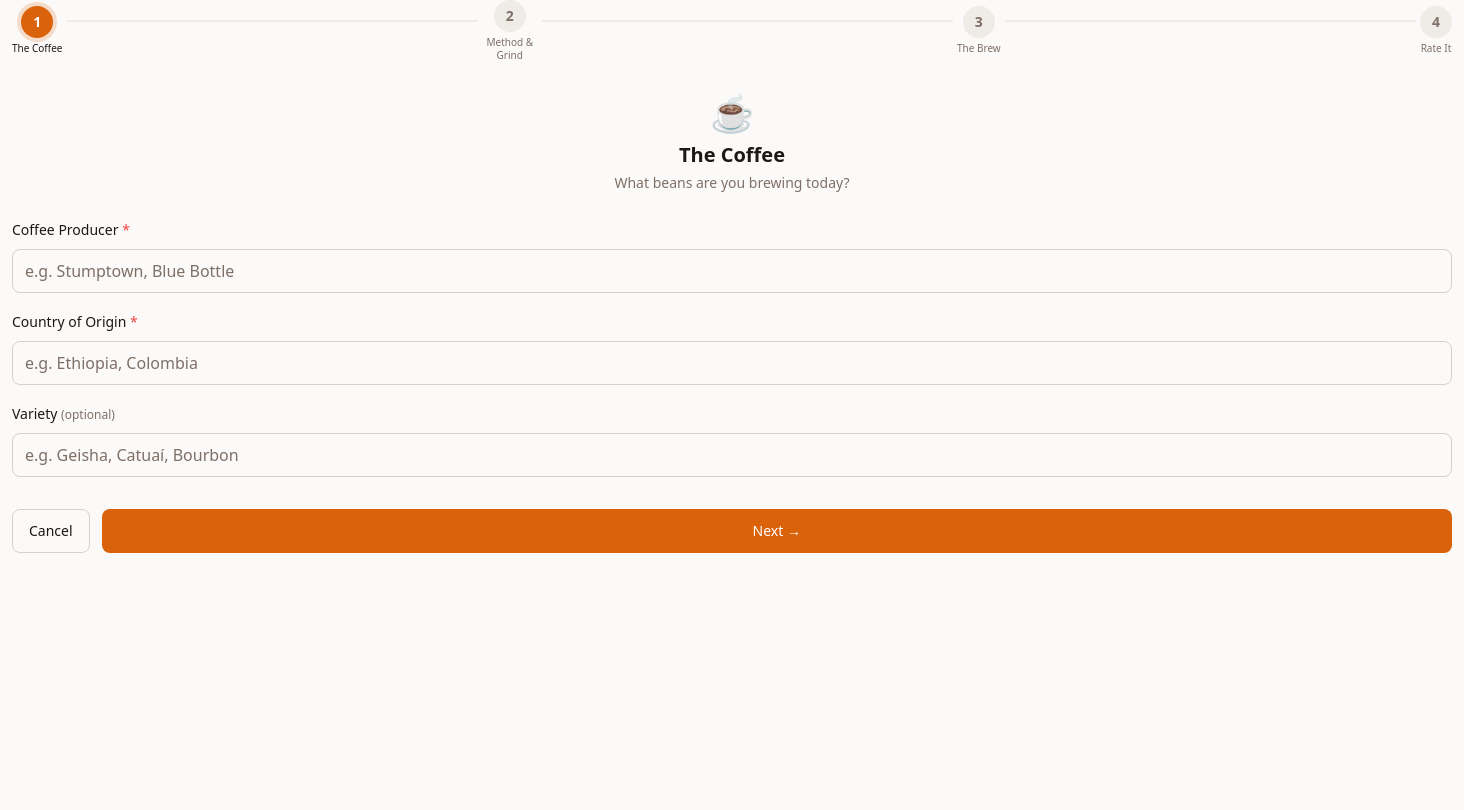
Test: BrewingForm wizard › shows validation errors when Next is clicked on step 1 without filling fields
Click the button "Next →": (777, 531) [102, 509, 1452, 553]
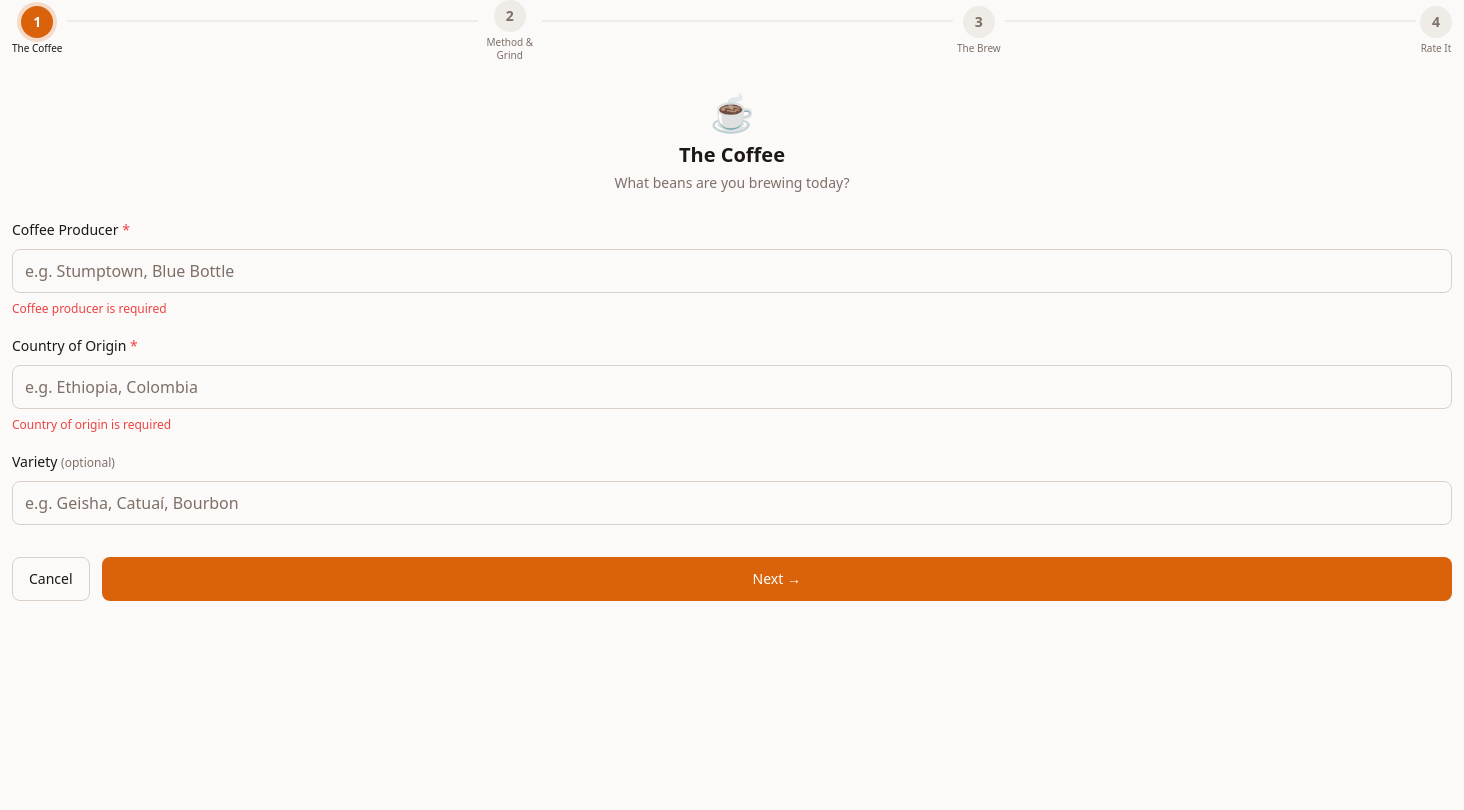
Result: the text "Coffee producer is required" is shown at [12, 300, 167, 317]
Result: the text "Country of origin is required" is shown at [12, 416, 171, 433]
